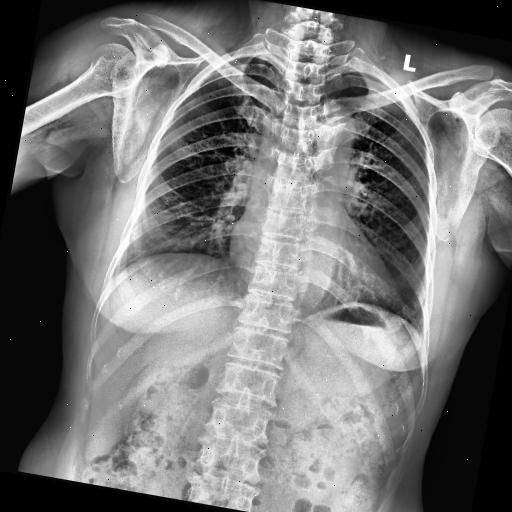0- Aortic enlargement: (294, 94, 362, 162), (304, 94, 360, 160), (316, 102, 360, 149)
3- Cardiomegaly: (220, 212, 410, 310), (218, 226, 410, 317), (220, 228, 414, 312)
